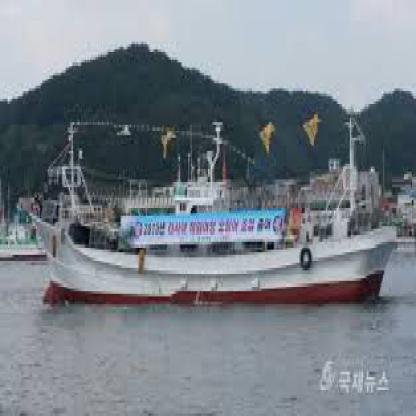fish-b: (21, 122, 410, 328)
